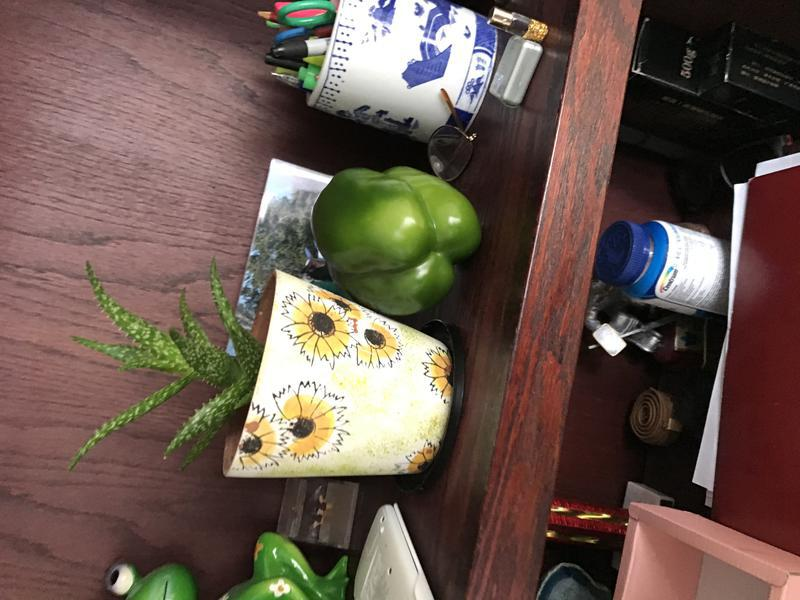green_pepper: (303, 162, 493, 322)
